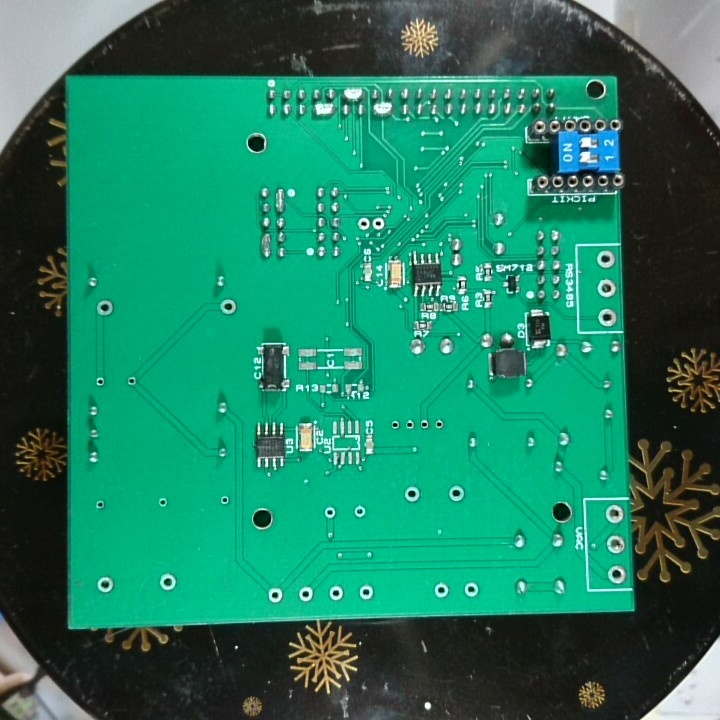F: (155, 570, 179, 595), (602, 502, 625, 526), (605, 562, 628, 586), (93, 297, 117, 320), (595, 249, 617, 273), (595, 277, 617, 300), (605, 532, 626, 556), (595, 306, 617, 328), (217, 296, 239, 318), (445, 483, 468, 504), (95, 572, 116, 595), (402, 483, 421, 506), (265, 584, 284, 606), (327, 583, 346, 604), (462, 580, 481, 600), (356, 582, 374, 603), (433, 580, 451, 600), (91, 374, 111, 392), (428, 416, 448, 434), (354, 215, 371, 233), (92, 496, 108, 515), (123, 373, 139, 392), (402, 415, 417, 434), (297, 584, 311, 604), (371, 215, 387, 232), (351, 504, 367, 520), (322, 504, 337, 520), (388, 416, 403, 432), (217, 492, 231, 509), (155, 495, 171, 509), (417, 418, 431, 432)
P: (311, 100, 339, 120), (370, 100, 394, 120), (340, 84, 366, 102), (258, 231, 274, 260), (273, 186, 287, 215)
